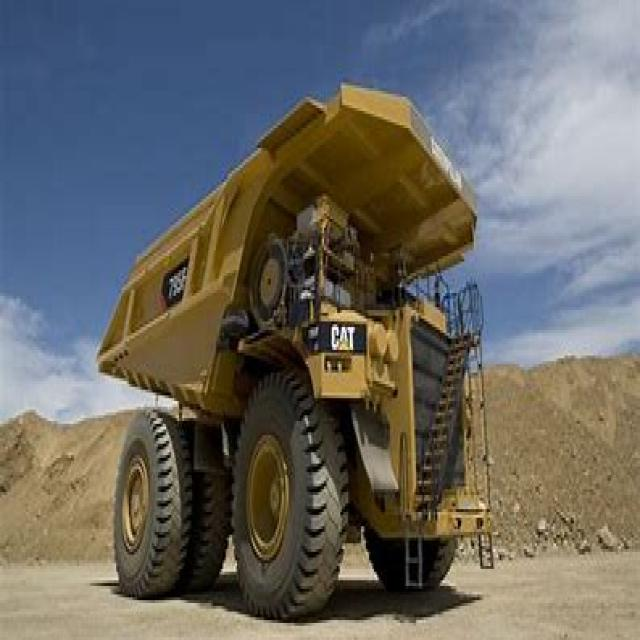dump_truck: (95, 65, 490, 618)
